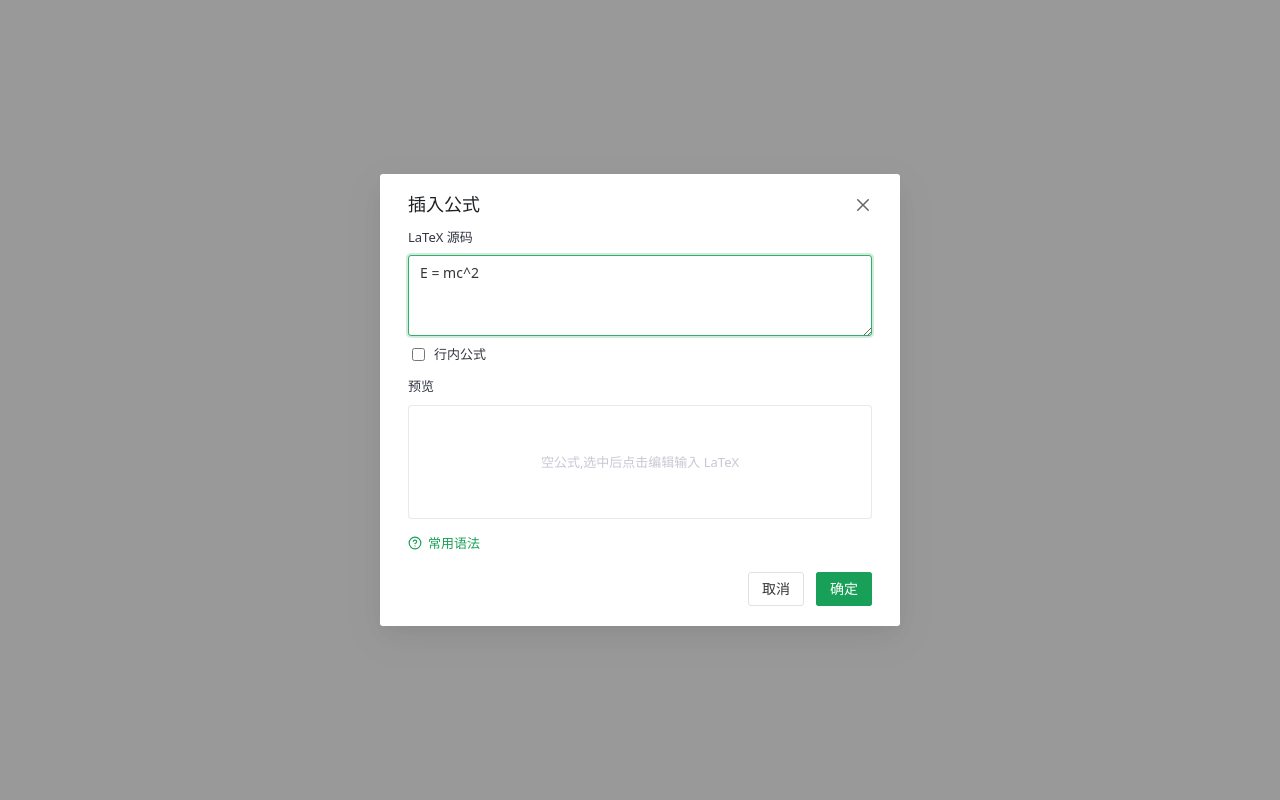
MathEditDialog › 常用语法面板:展开后点击片段插入光标处
Click the button with class "tvp-math-dialog-help-toggle" at (444,543), box x1=408 y1=531 x2=480 y2=554
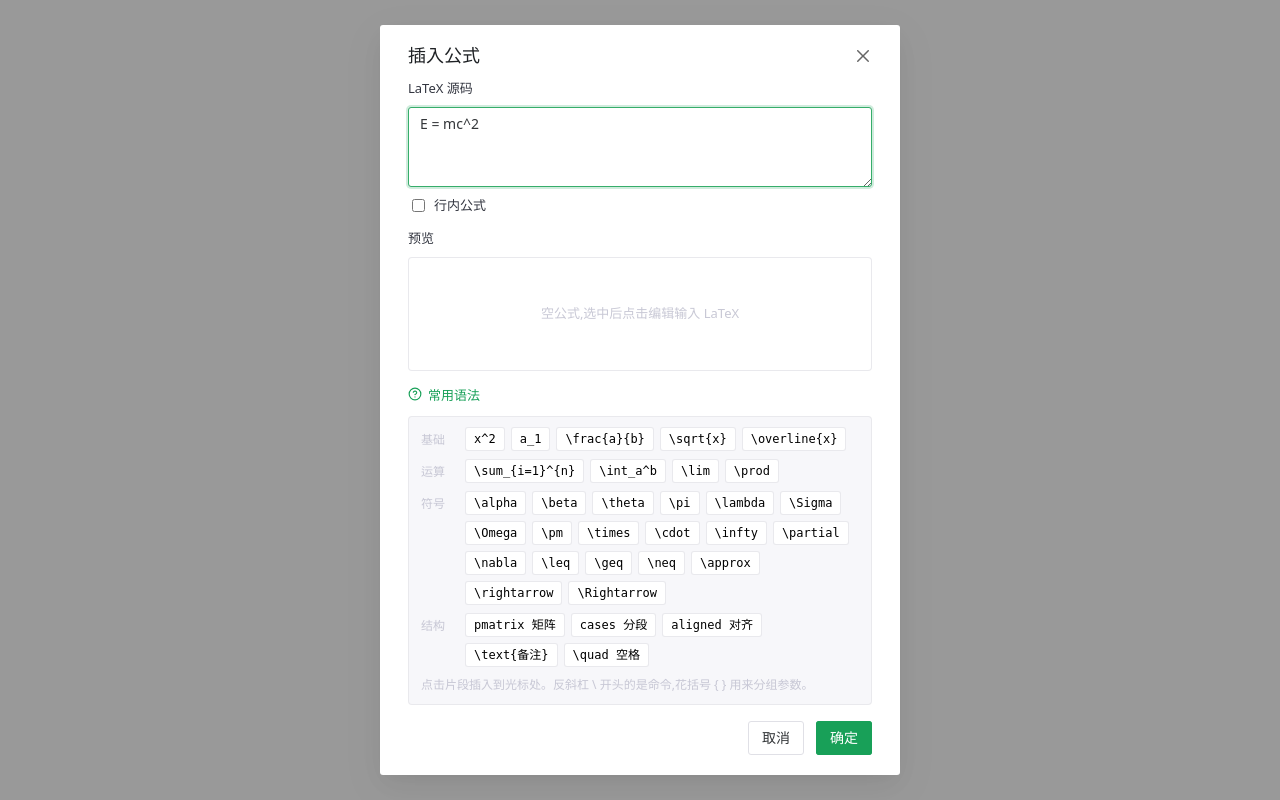
Check: the button with class "tvp-math-dialog-help-toggle" is expanded, box x1=408 y1=383 x2=480 y2=406
Check: the element with class "tvp-math-dialog-help-panel" is shown, box x1=408 y1=416 x2=872 y2=705
Click the button with class "tvp-math-help-chip" showing "\\frac{a}{b}" at (605,438), box x1=556 y1=426 x2=654 y2=450
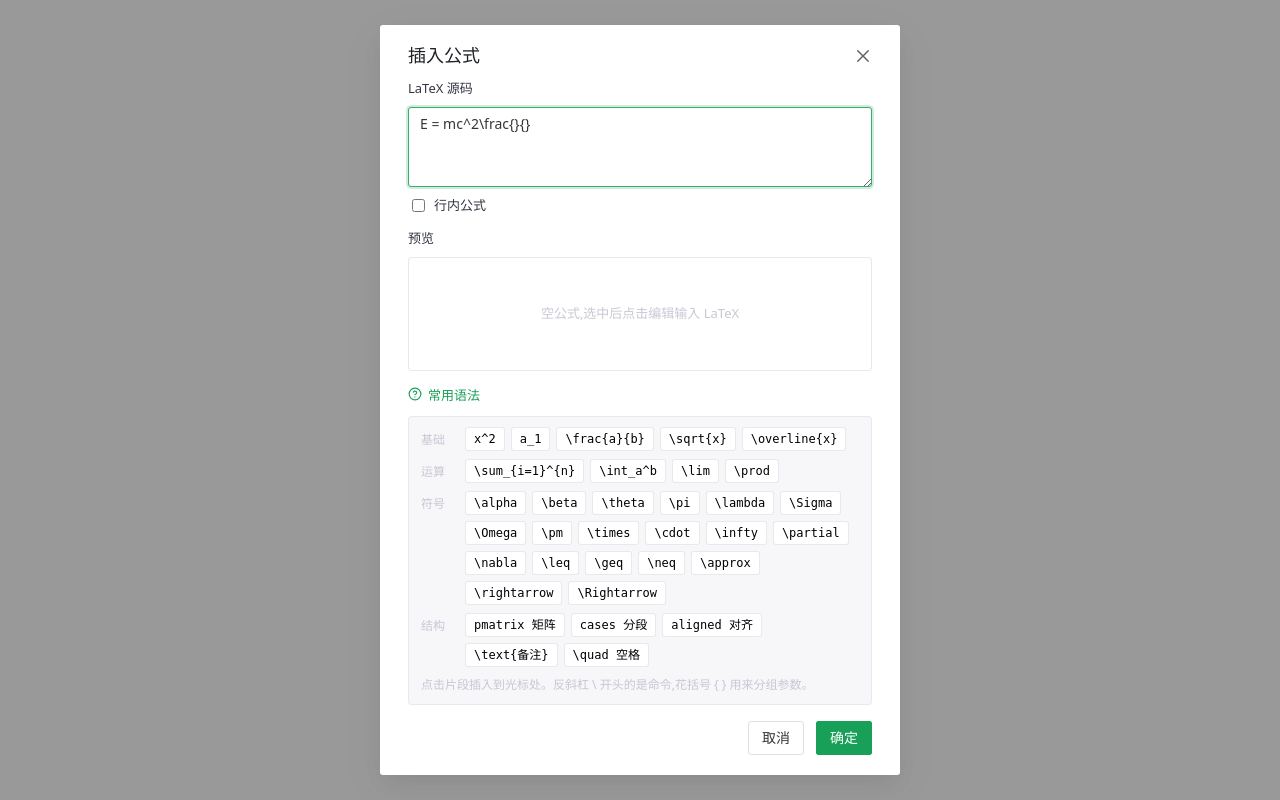
Check: the text box holds "E = mc^2\\frac{}{}", box x1=420 y1=107 x2=860 y2=187
